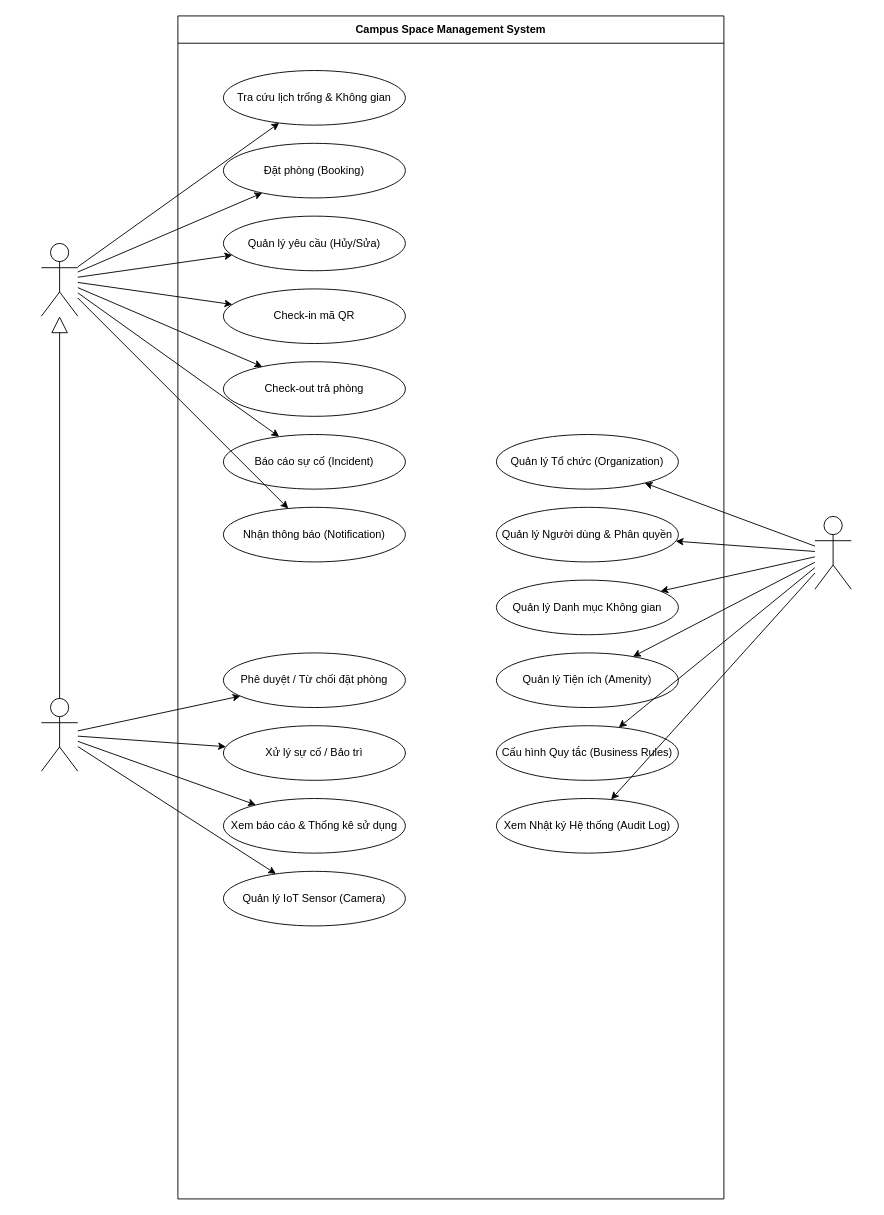
This 884x1215 diagram has some shape labels left out. Each missing label, with the box of its shape:
Người dùng (SV/GV): (40, 243, 78, 316)
Space Manager (Quản lý/Kỹ thuật): (40, 698, 78, 771)
System Admin (Quản trị viên): (814, 516, 851, 589)
